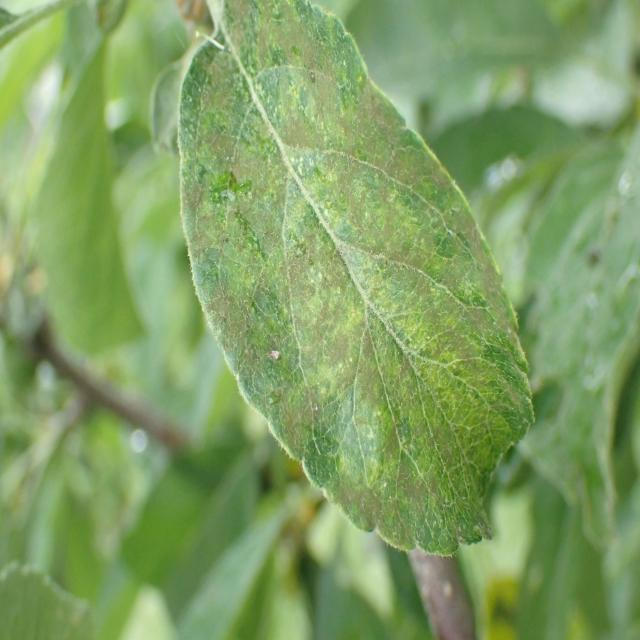scab: (193, 0, 530, 551)
